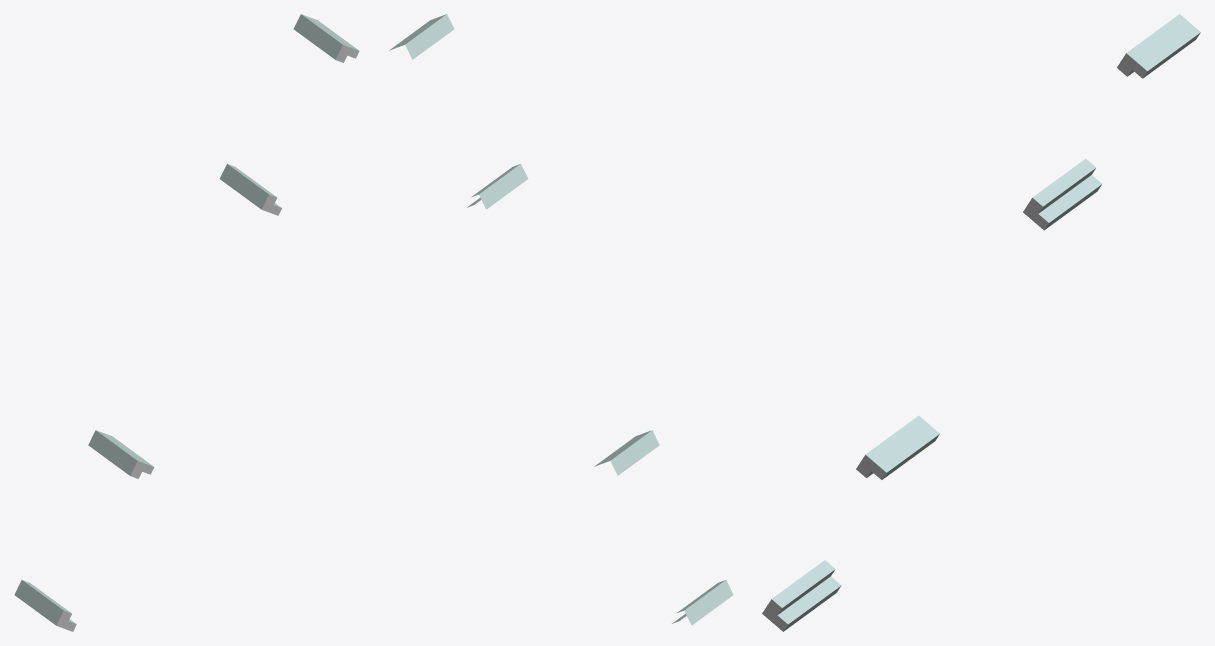
3 views of the same model, side by side, from view 1: azimuth 30°, elevation 25°; view 2: azimuth 150°, elevation 25°; view 3: azimuth 330°, elevation 25° (orthographic). The views are drawn at different scales.
Visible parts, largest first — view 1: 0_3_1_2_3_0_3_3_3; view 2: 0_3_1_2_3_0_3_3_3; view 3: 0_3_1_2_3_0_3_3_3.
Boxes of the visible parts, x1=… form: 0_3_1_2_3_0_3_3_3: x1=14, y1=14, x2=359, y2=631; 0_3_1_2_3_0_3_3_3: x1=389, y1=14, x2=733, y2=625; 0_3_1_2_3_0_3_3_3: x1=762, y1=14, x2=1200, y2=631.
Size of the model in its own units: 12.49 by 20.52 by 3.
